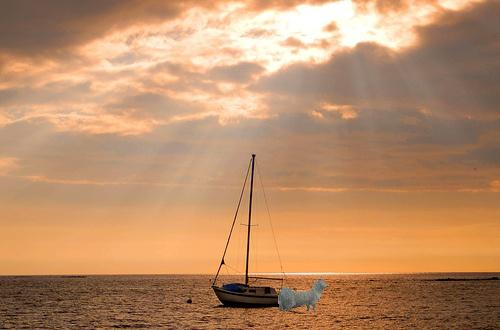tampered: (279, 280, 328, 311)
